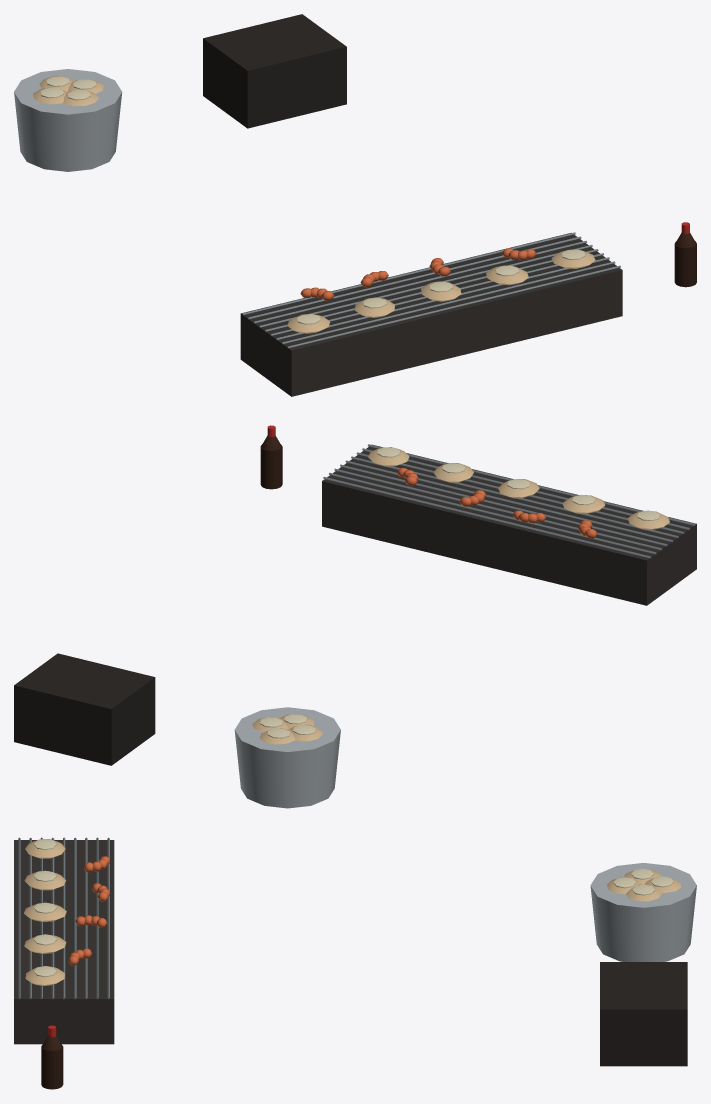
File: goods_hamayaki.glb
The picture shows the model from 3 angles, top to bottom: view 1: azimuth 30°, elevation 25°; view 2: azimuth 150°, elevation 25°; view 3: azimuth 270°, elevation 25°; orthographic projection.
Visible parts, largest first — view 1: goods_hamayaki; view 2: goods_hamayaki; view 3: goods_hamayaki.
Part boxes in pixels (<box>): goods_hamayaki: <box>14,14,696,396</box>; goods_hamayaki: <box>14,425,696,808</box>; goods_hamayaki: <box>14,837,696,1089</box>.
Size of the model in its own units: 1.54 by 0.251 by 2.18.
